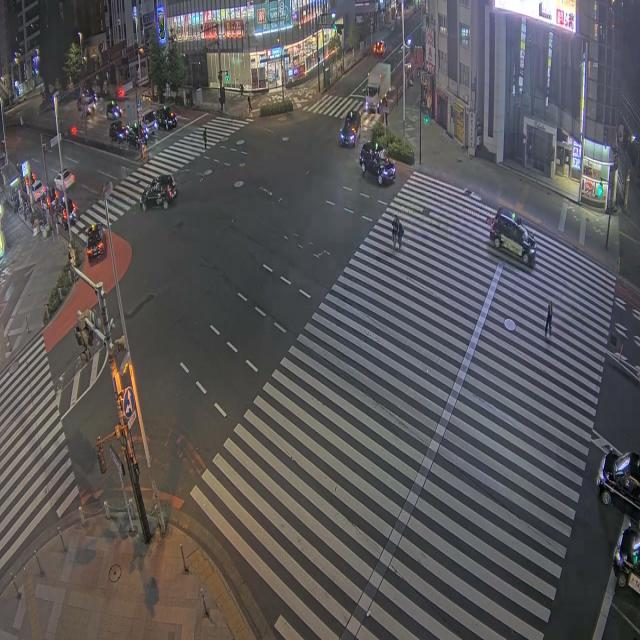car: (490, 208, 535, 264), (597, 451, 639, 509), (613, 524, 639, 593), (359, 143, 395, 184), (140, 175, 177, 210), (52, 191, 76, 224), (86, 224, 106, 261), (340, 111, 360, 146), (53, 203, 76, 229), (126, 122, 148, 147), (156, 105, 177, 130), (54, 169, 74, 190), (142, 109, 158, 135), (77, 93, 96, 114), (109, 120, 126, 142), (106, 100, 121, 119), (32, 181, 46, 201), (373, 41, 385, 55)
truck: (364, 63, 391, 111)
